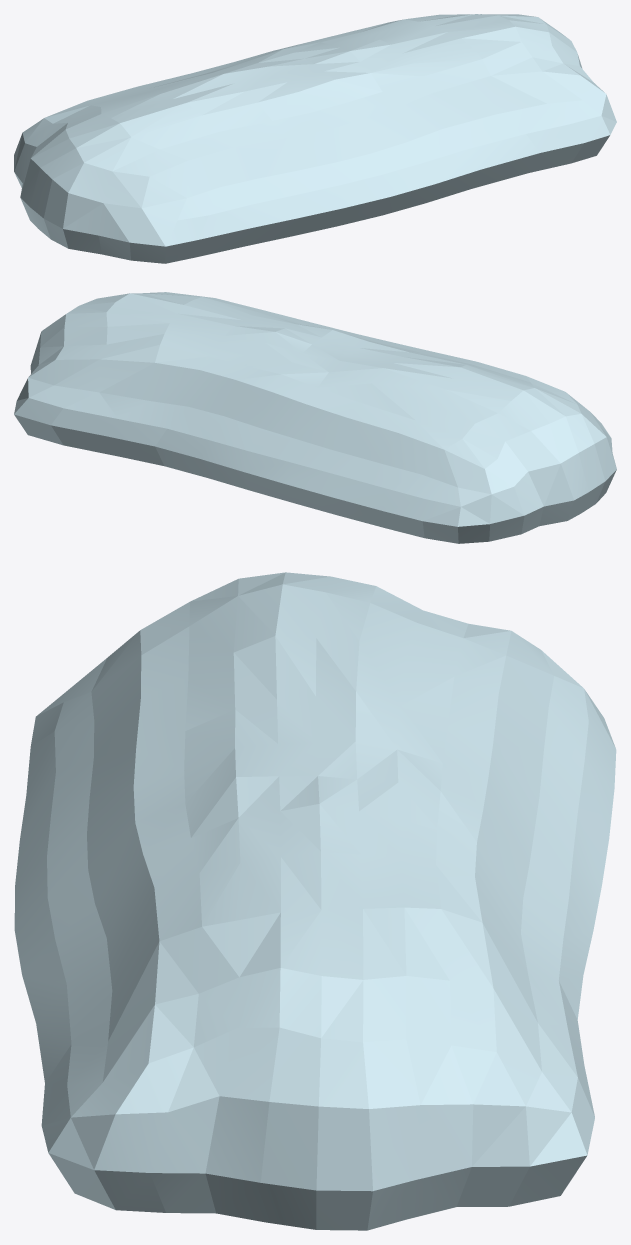
File: Monticulo03.glb
The picture shows the model from 3 angles, top to bottom: view 1: azimuth 30°, elevation 25°; view 2: azimuth 150°, elevation 25°; view 3: azimuth 270°, elevation 25°; orthographic projection. The views are drawn at different scales.
Parts seen in each view (by area): view 1: SM_Env_Dirt_Mound_03_Snow; view 2: SM_Env_Dirt_Mound_03_Snow; view 3: SM_Env_Dirt_Mound_03_Snow.
Part boxes in pixels (x1,y1,x2,y2): SM_Env_Dirt_Mound_03_Snow: (14,14,616,263); SM_Env_Dirt_Mound_03_Snow: (14,292,616,543); SM_Env_Dirt_Mound_03_Snow: (14,572,616,1230).
Size of the model in its own units: 14 by 2.55 by 6.64.
Materials: 1 (1 with a texture image).
